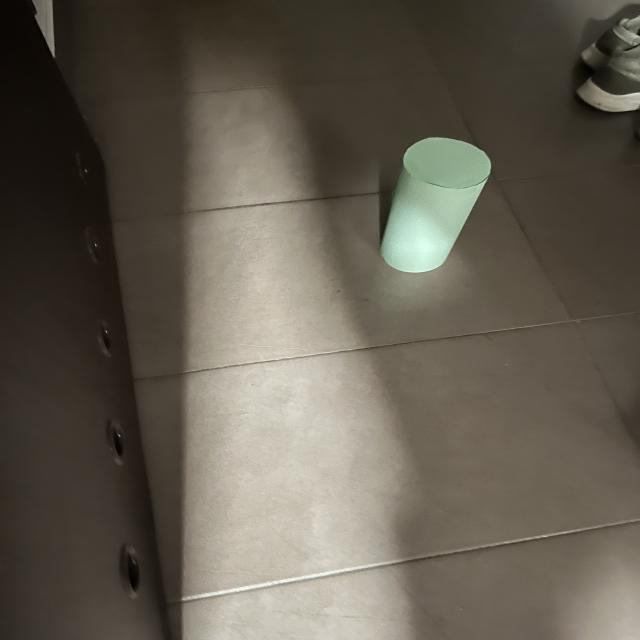meta: (380, 137, 491, 273)
